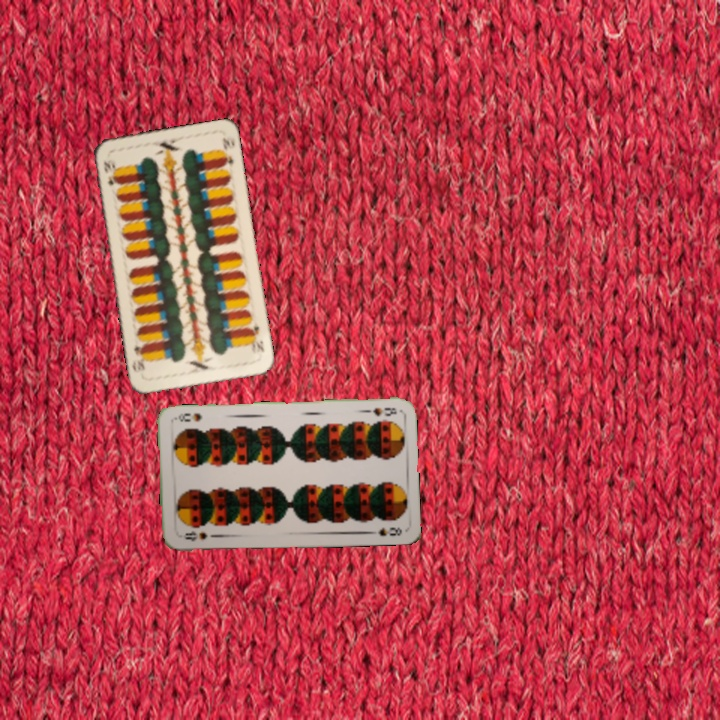E10: (246, 320, 267, 355), (100, 156, 120, 187)
S8: (360, 404, 399, 419), (181, 528, 210, 543)
